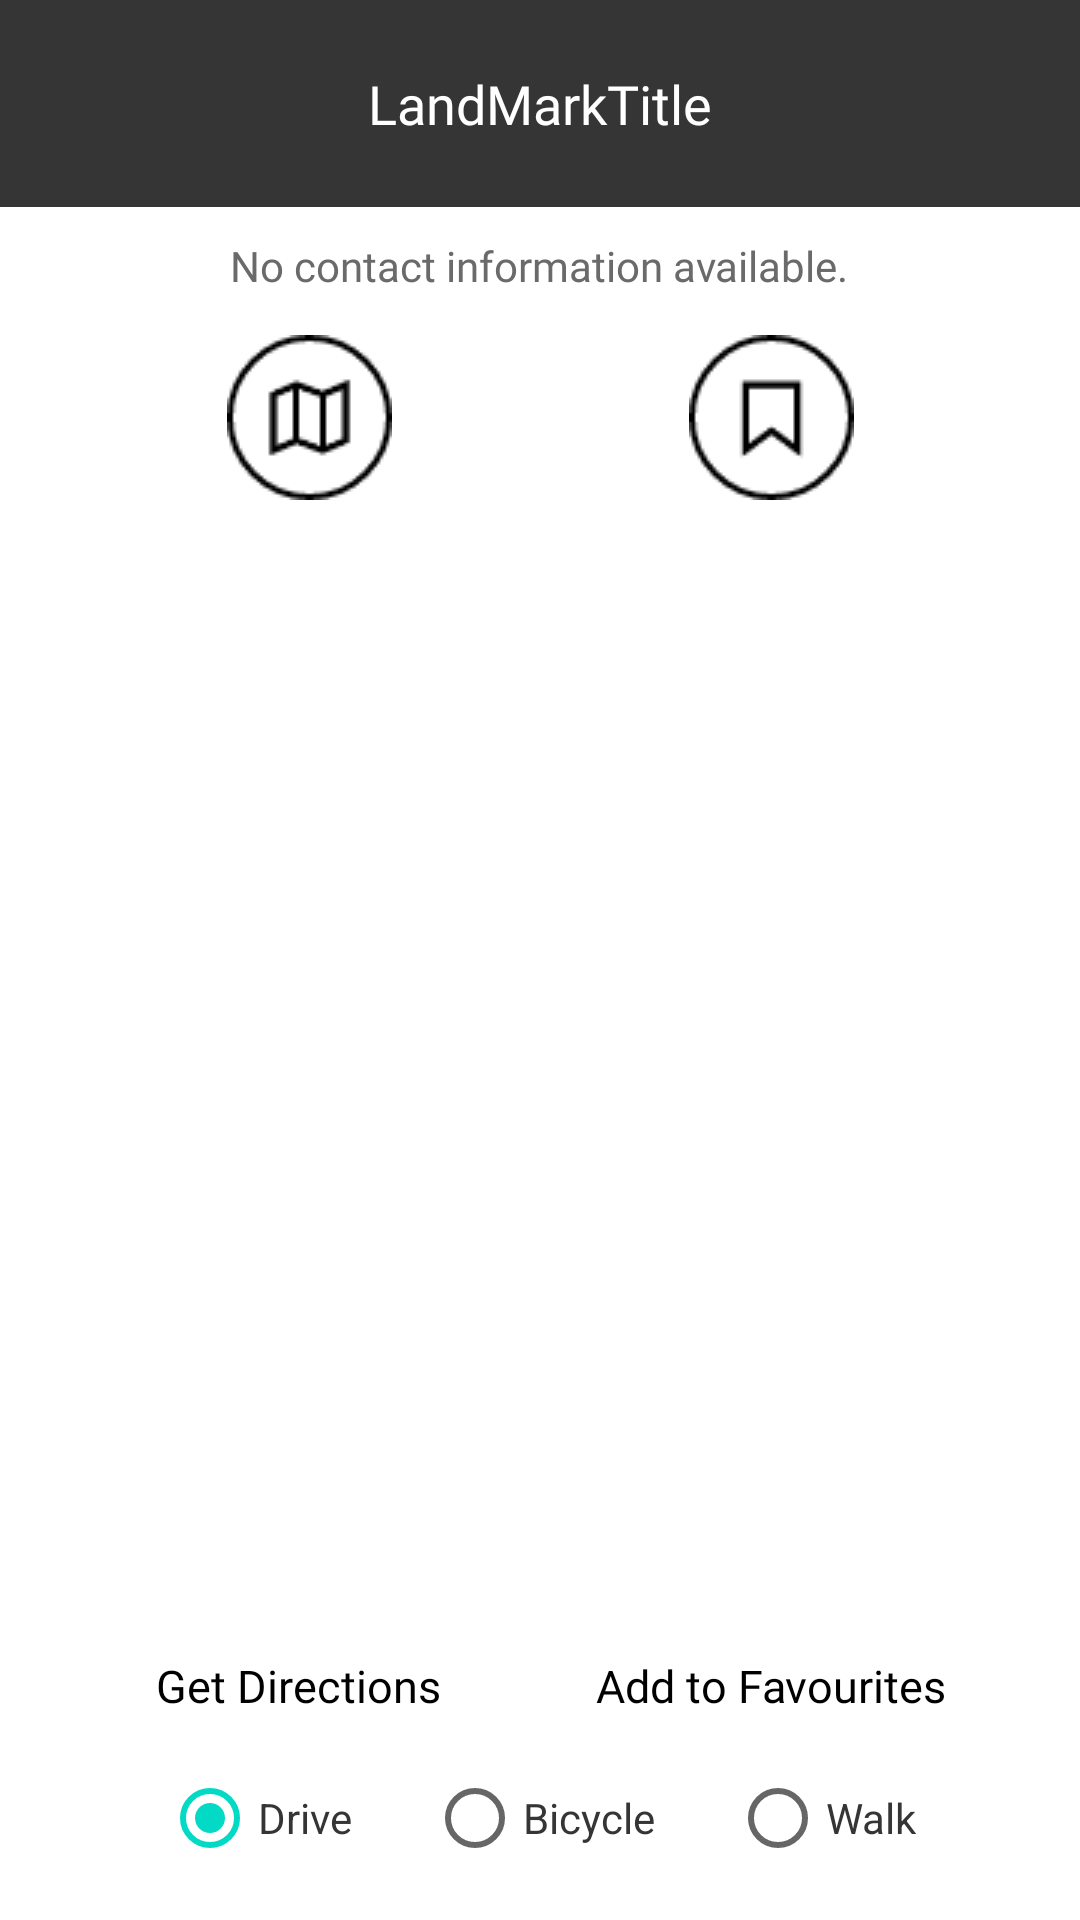

Icon bounding boxes for this 1080 x 1920 phone screenshot, format [x1,y1,x2,y2]:
bookmark: [689,335,854,500]
map: [227,335,392,500]
